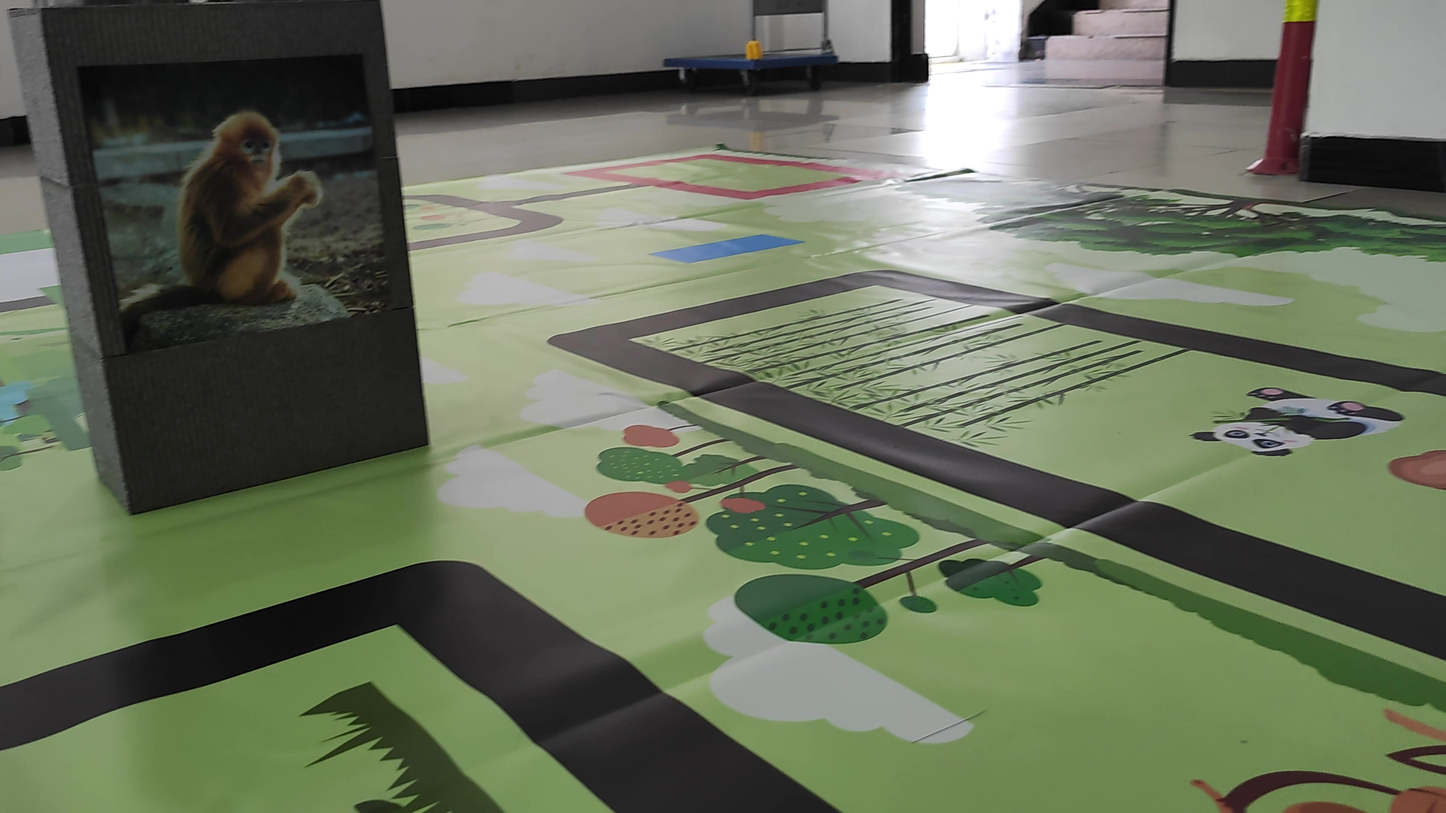monkey: (102, 82, 344, 331)
